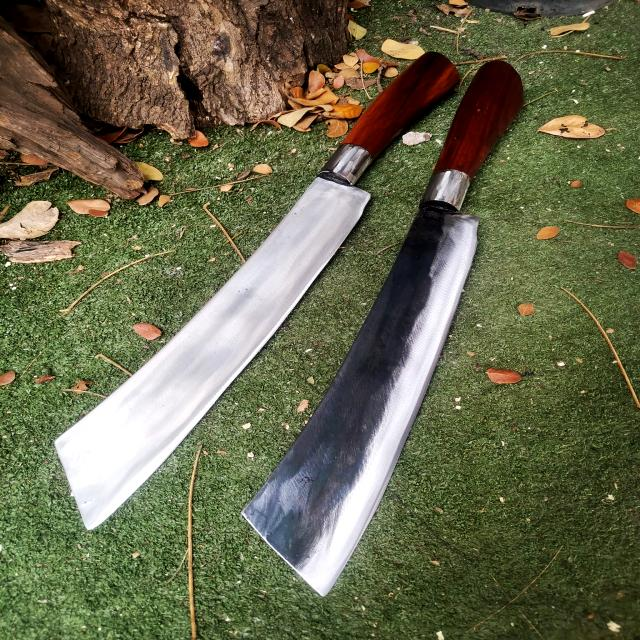eto: (39, 42, 470, 538), (223, 48, 544, 612)
